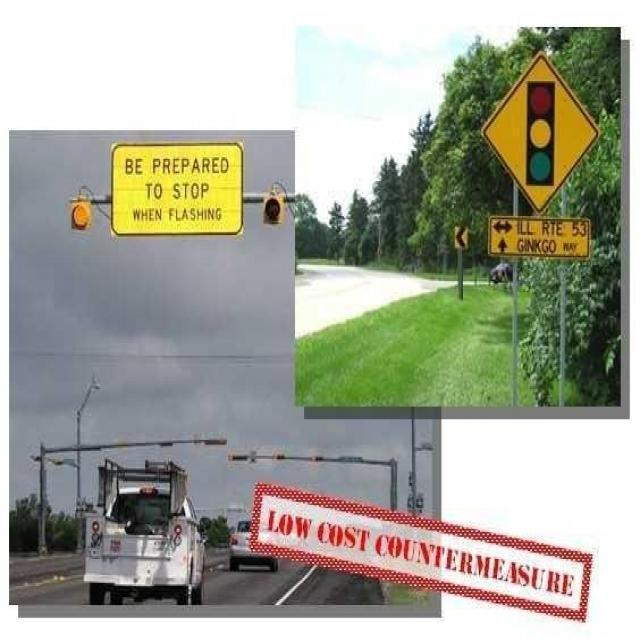red_light: (70, 197, 91, 230)
